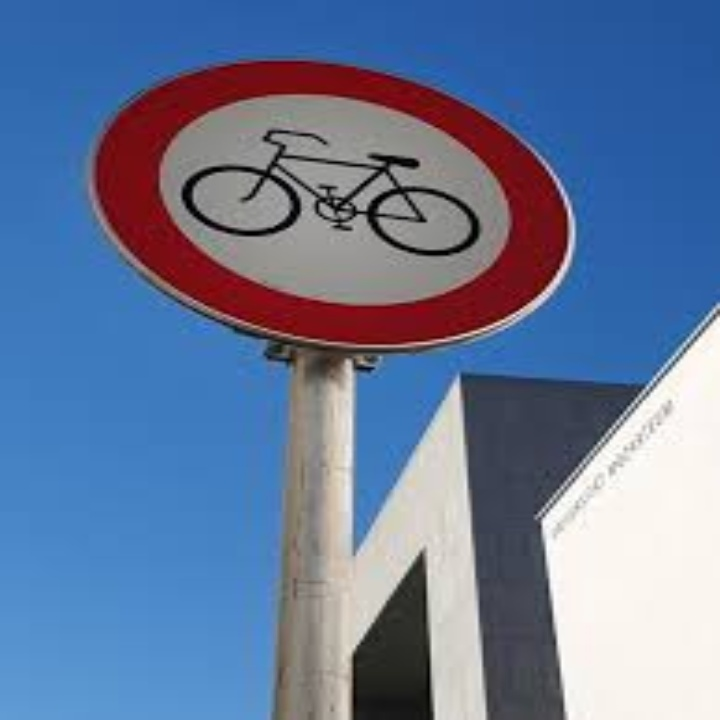bicycle: (176, 115, 482, 261)
